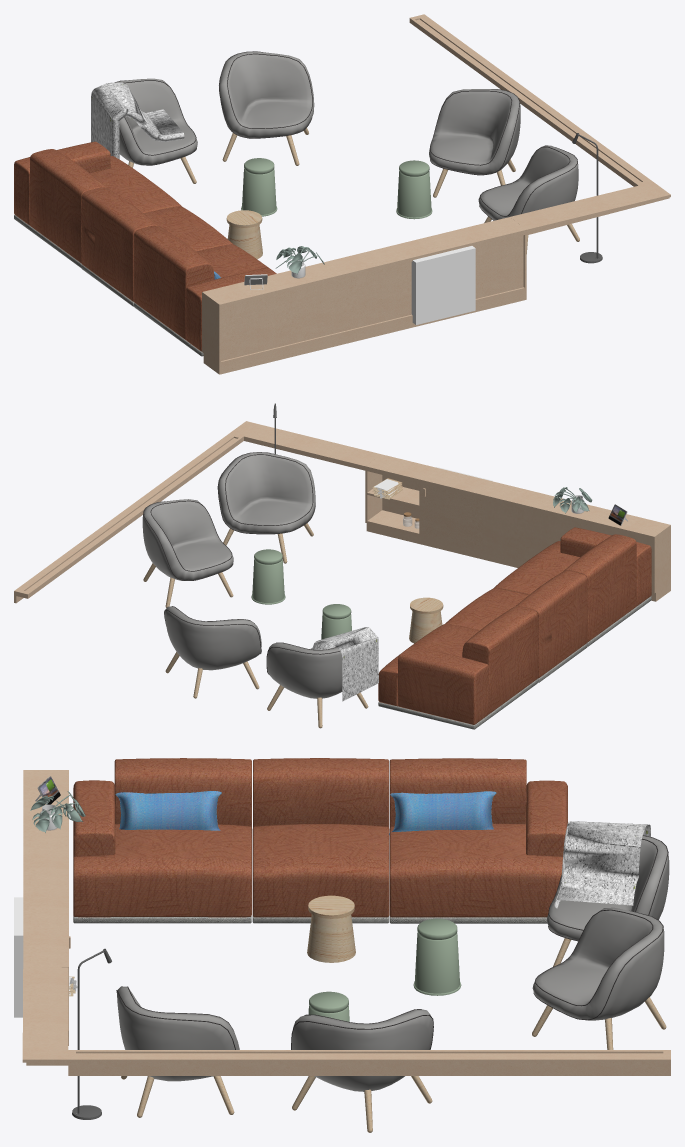
The model's file is break-room(static)_ver-6.glb.
3 renders of one model, top to bottom at view 1: azimuth 30°, elevation 25°; view 2: azimuth 150°, elevation 25°; view 3: azimuth 270°, elevation 25°, orthographic. The views are drawn at different scales.
Visible parts, largest first — view 1: desk, sofa, chair.002, chair.001, chair, chair.003, shelf, block, pouffe.002, pouffe.001, pouffe, Mesh87 Group80 Group79 Group15 Williams_Credenza___880_3_1 G (+1 smaller); view 2: sofa, desk, chair.003, chair.001, chair, chair.002, shelf, small_door, pouffe.002, pouffe, pouffe.001, Mesh87 Group80 Group79 Group15 Williams_Credenza___880_3_1 G; view 3: sofa, shelf, desk, chair.002, chair.001, chair, chair.003, pillow, pillow.001, pouffe.001, pouffe, Mesh87 Group80 Group79 Group15 Williams_Credenza___880_3_1 G (+3 smaller).
Part boxes in pixels (<box>): desk: <box>202,182,670,374</box>; sofa: <box>14,141,276,356</box>; chair.002: <box>219,51,314,165</box>; chair.001: <box>91,78,197,183</box>; chair: <box>429,89,520,197</box>; chair.003: <box>478,145,579,253</box>; shelf: <box>409,14,652,186</box>; block: <box>411,246,475,324</box>; pouffe.002: <box>396,160,432,219</box>; pouffe.001: <box>241,158,277,216</box>; pouffe: <box>226,210,262,259</box>; Mesh87 Group80 Group79 Group15 Williams_Credenza___880_3_1 G: <box>275,246,324,278</box>; sofa: <box>378,527,651,729</box>; desk: <box>230,421,670,601</box>; chair.003: <box>217,452,315,563</box>; chair.001: <box>266,627,378,728</box>; chair: <box>142,499,233,607</box>; chair.002: <box>164,606,261,698</box>; shelf: <box>14,433,243,603</box>; small_door: <box>421,484,483,549</box>; pouffe.002: <box>251,549,285,604</box>; pouffe: <box>409,597,443,643</box>; pouffe.001: <box>321,604,351,639</box>; Mesh87 Group80 Group79 Group15 Williams_Credenza___880_3_1 G: <box>553,487,592,513</box>; sofa: <box>73,758,567,923</box>; shelf: <box>68,1050,670,1075</box>; desk: <box>22,770,68,1065</box>; chair.002: <box>532,907,666,1049</box>; chair.001: <box>547,821,669,966</box>; chair: <box>291,1009,433,1132</box>; chair.003: <box>116,986,239,1117</box>; pillow: <box>389,791,496,834</box>; pillow.001: <box>115,791,221,830</box>; pouffe.001: <box>413,918,461,995</box>; pouffe: <box>307,895,355,962</box>; Mesh87 Group80 Group79 Group15 Williams_Credenza___880_3_1 G: <box>30,791,85,832</box>.
Bounding box in the file's own units: 182 × 47.6 × 174.
Materials: 22 (10 with a texture image).
